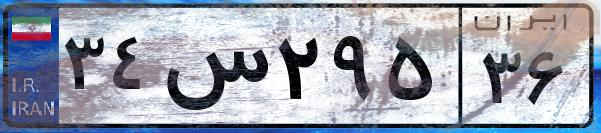2: (270, 28, 330, 110)
3: (57, 26, 110, 100), (475, 38, 525, 113)
4: (110, 28, 158, 98)
5: (385, 28, 445, 110)
6: (525, 38, 570, 115)
9: (330, 28, 385, 110)
س: (158, 20, 270, 120)
